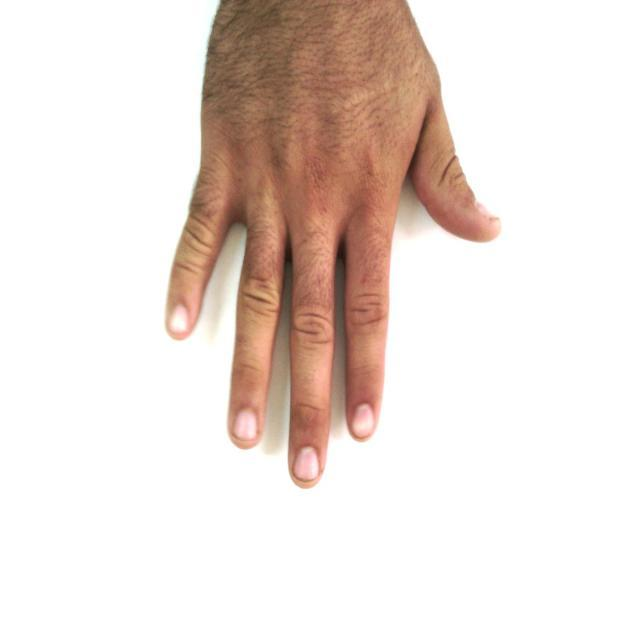Fingernail: (295, 447, 319, 480), (353, 404, 374, 437), (236, 410, 257, 439), (170, 306, 188, 333), (477, 203, 497, 221)
